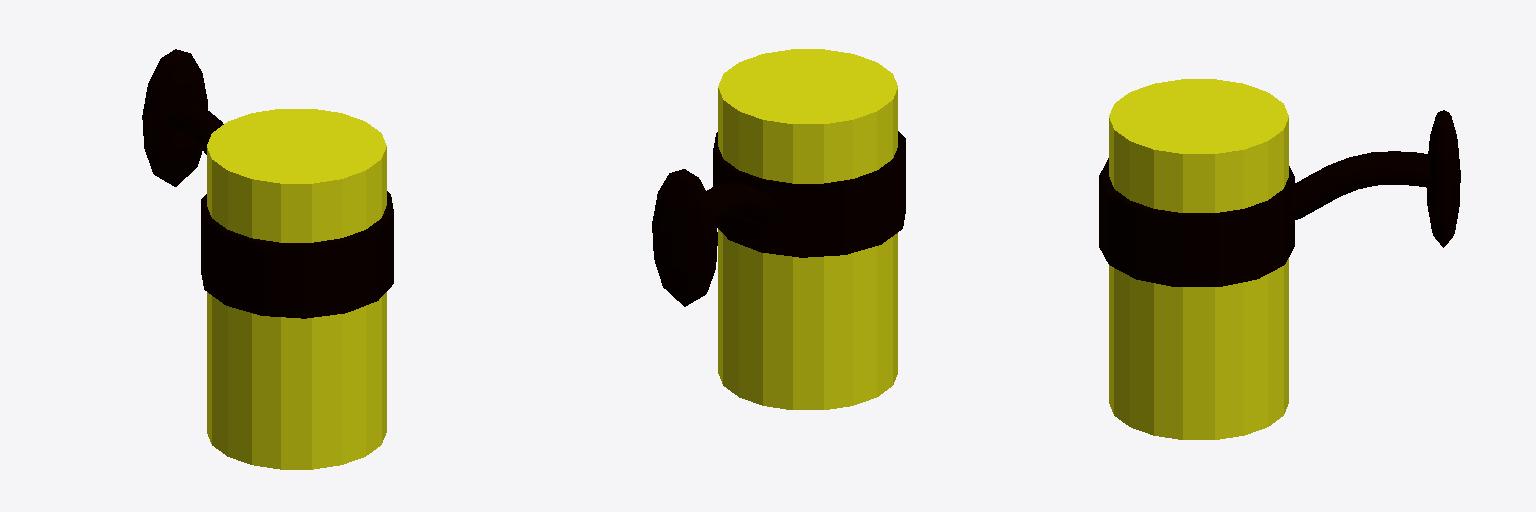
The model's file is wallLamp.obj.
The picture shows the model from 3 angles: view 1: azimuth 30°, elevation 25°; view 2: azimuth 150°, elevation 25°; view 3: azimuth 270°, elevation 25°; orthographic projection.
Parts seen in each view (by area): view 1: lamp; view 2: lamp; view 3: lamp.
Part boxes in pixels (left/top/right/bottom): lamp: left=142, top=49, right=393, bottom=469; lamp: left=652, top=49, right=905, bottom=409; lamp: left=1099, top=79, right=1460, bottom=439.
Bounding box in the file's own units: 25.35 × 43.06 × 48.12.